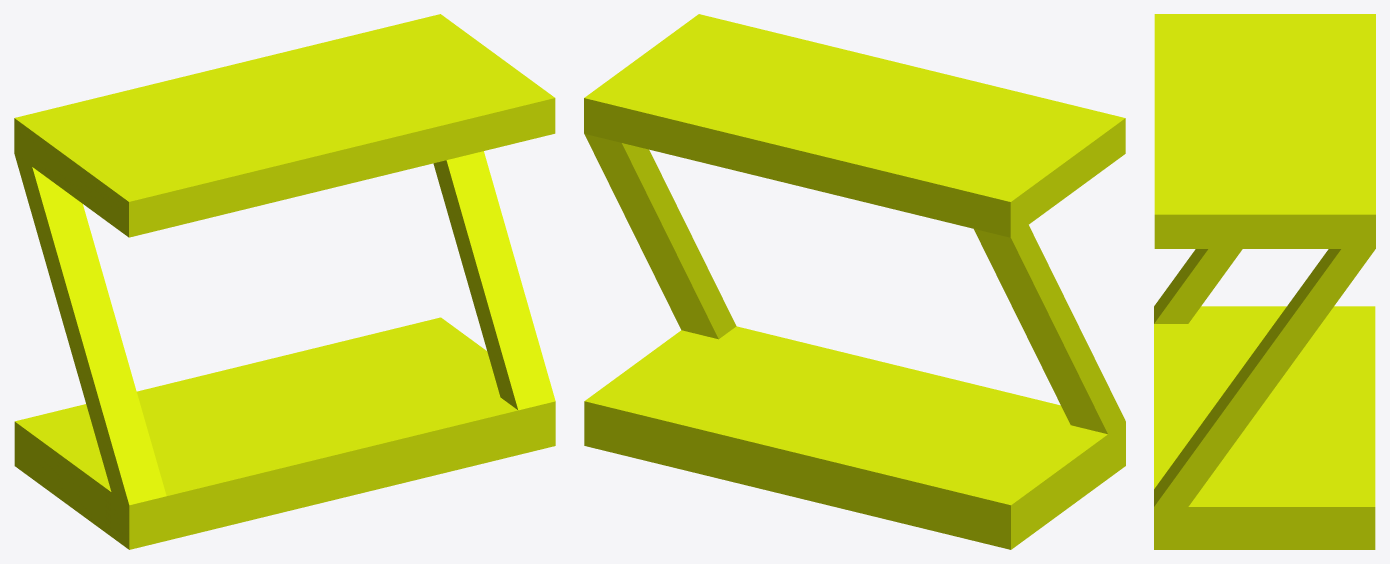
Rendered from TallTable1.FBX.
The picture shows the model from 3 angles, left to right: view 1: azimuth 30°, elevation 25°; view 2: azimuth 150°, elevation 25°; view 3: azimuth 270°, elevation 25°; orthographic projection. The views are drawn at different scales.
Visible parts, largest first — view 1: Object014; view 2: Object014; view 3: Object014.
Part boxes in pixels (box(x1,y1,x2,y2)): Object014: box(14, 14, 555, 549); Object014: box(584, 14, 1125, 549); Object014: box(1154, 14, 1375, 549).
Bounding box in the file's own units: 1.33 × 1.03 × 0.6203.
